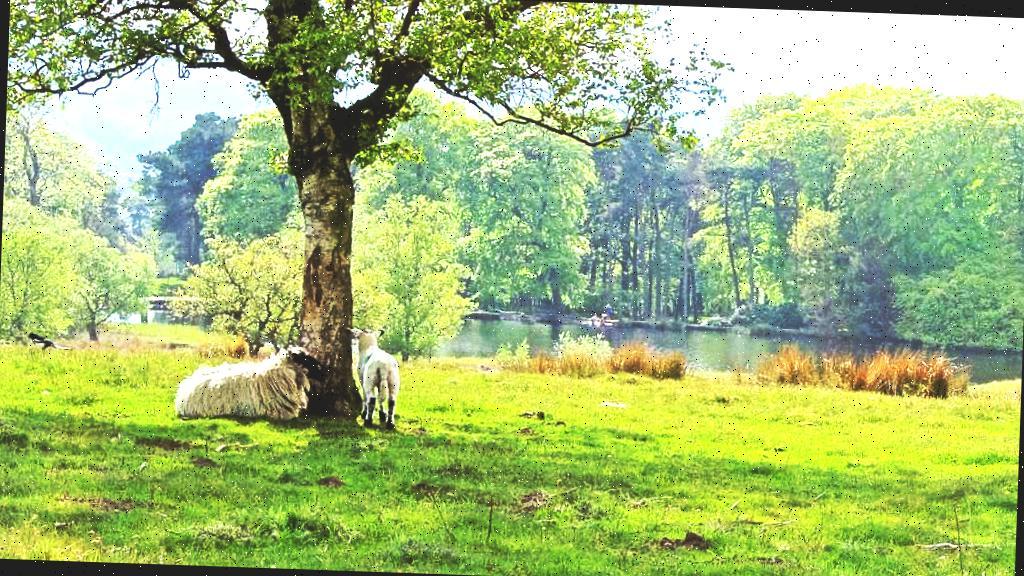Sheep: (180, 330, 322, 428), (342, 322, 400, 432)
